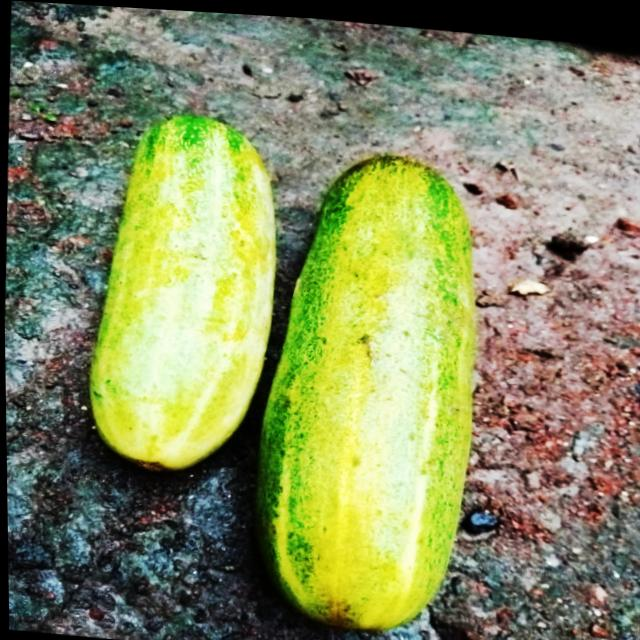Fresh-Cucumber: (241, 134, 490, 640), (76, 98, 285, 484)
